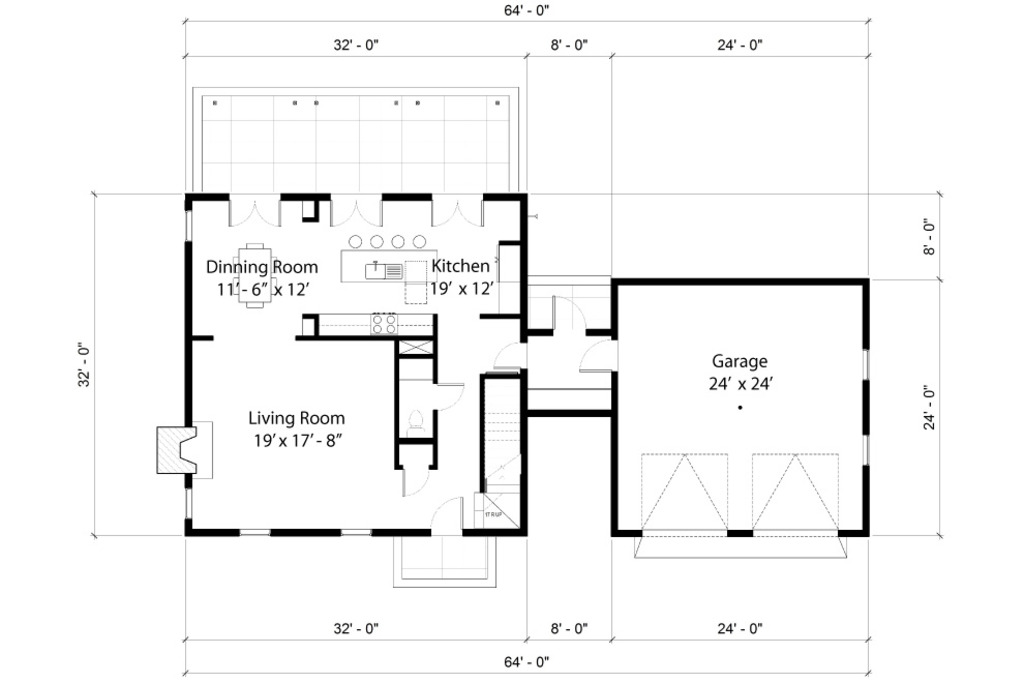door: (425, 191, 488, 231), (327, 191, 386, 230), (226, 191, 284, 229), (548, 292, 591, 339), (575, 338, 625, 378), (427, 494, 467, 534), (488, 340, 535, 370), (433, 378, 469, 412), (401, 466, 433, 500)
kitchen_bar: (335, 236, 439, 287), (860, 346, 872, 386)
stairs: (480, 375, 522, 531)
windows: (235, 525, 272, 539), (859, 432, 873, 468), (859, 346, 871, 384), (335, 528, 375, 539)
